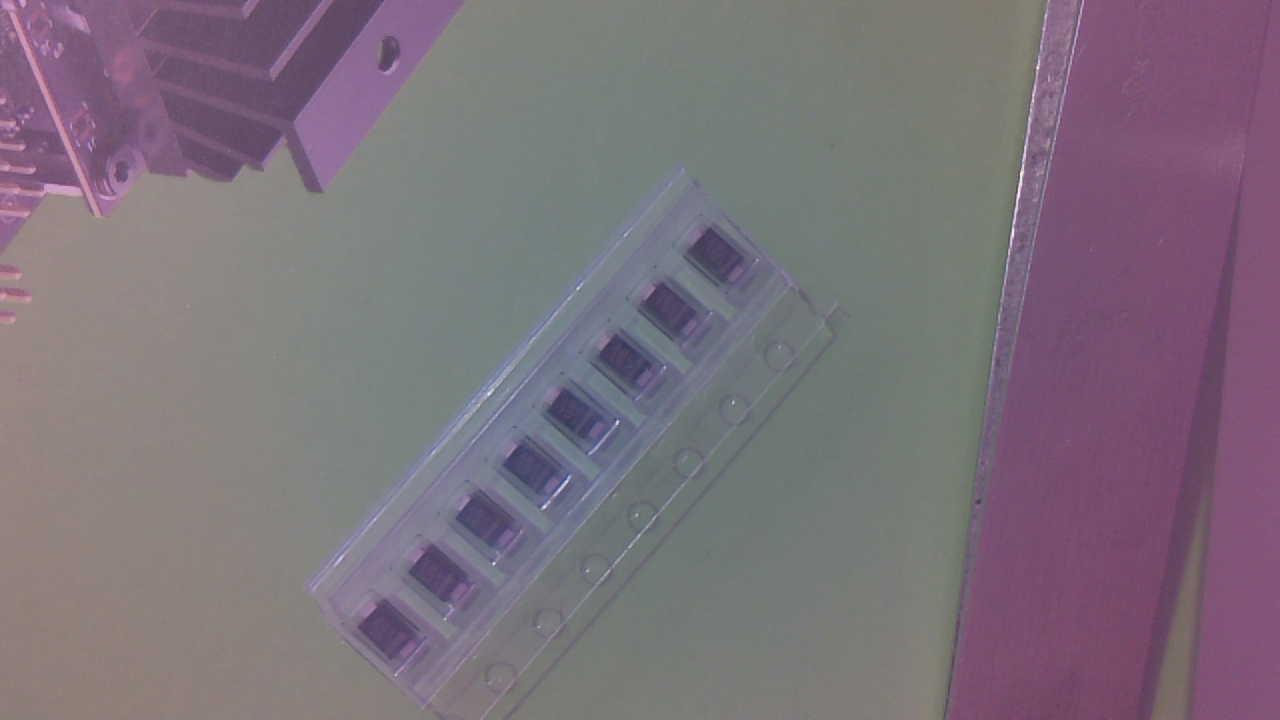Diode: (358, 601, 425, 666), (407, 547, 478, 608), (455, 497, 526, 554), (689, 229, 753, 292), (504, 443, 567, 504), (643, 284, 708, 343), (548, 390, 617, 443), (598, 336, 661, 394)
